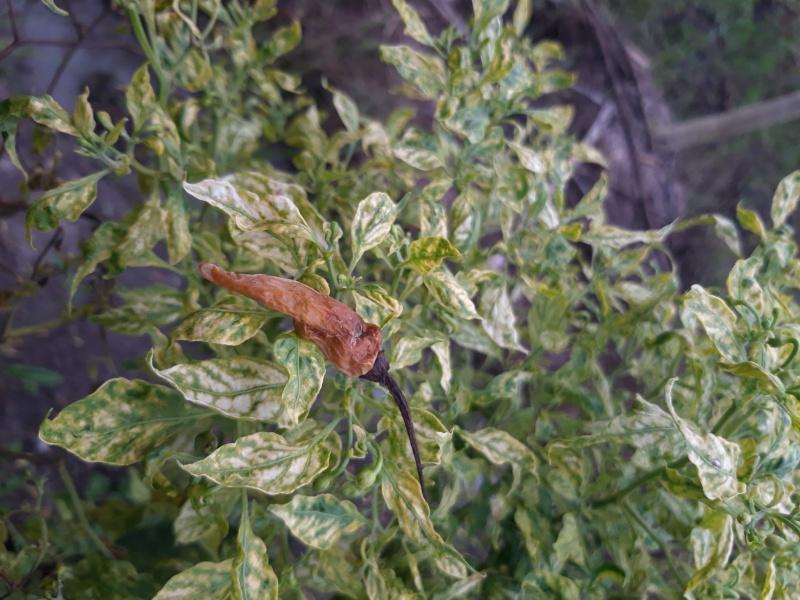antraknosa: (196, 262, 385, 384)
